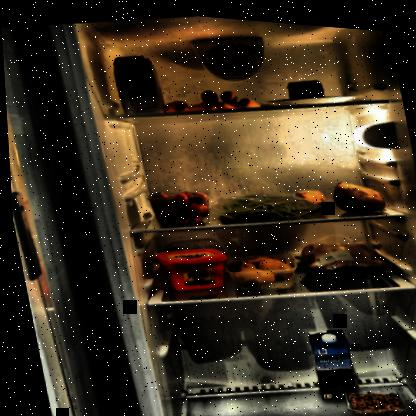butter: (148, 238, 232, 294)
carrot: (160, 76, 266, 119)
cheese: (283, 71, 326, 98)
chicken: (288, 223, 393, 284)
green_beans: (203, 177, 322, 228)
milk: (303, 318, 358, 400)
potato: (220, 245, 299, 291)
shrimp: (342, 379, 401, 415)
strawberries: (143, 181, 212, 229)
sweet_potato: (325, 167, 387, 213), (294, 179, 324, 204)
